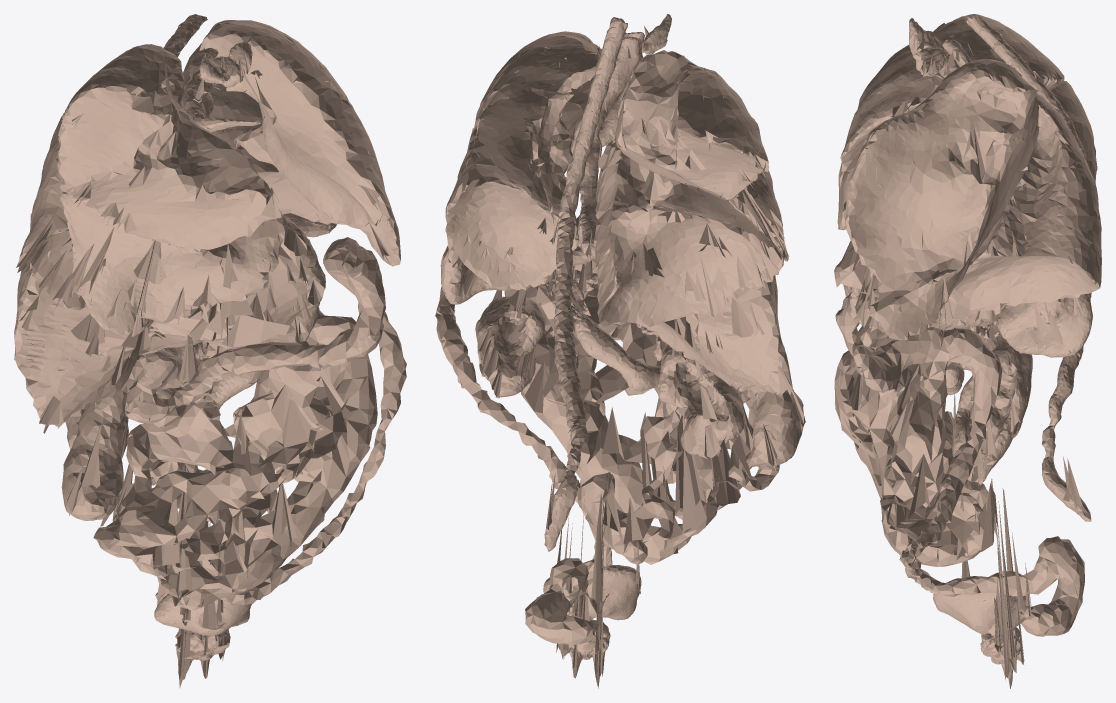
File: orgaos.glb
3 views of the same model, side by side, from view 1: azimuth 30°, elevation 25°; view 2: azimuth 150°, elevation 25°; view 3: azimuth 270°, elevation 25° (orthographic). The views are drawn at different scales.
Parts seen in each view (by area): view 1: small_bowel, lung_upper_lobe_right, colon, lung_upper_lobe_left, liver, lung_middle_lobe_right, lung_lower_lobe_right, lung_lower_lobe_left, stomach, urinary_bladder, prostate, trachea (+5 smaller); view 2: small_bowel, lung_lower_lobe_right, lung_lower_lobe_left, lung_upper_lobe_right, colon, liver, spinal_cord, kidney_right, lung_upper_lobe_left, kidney_left, urinary_bladder, esophagus (+8 smaller); view 3: lung_upper_lobe_left, small_bowel, lung_lower_lobe_left, colon, lung_upper_lobe_right, kidney_left, spinal_cord, spleen, urinary_bladder, prostate, stomach, lung_lower_lobe_right (+5 smaller).
Boxes of the visible parts, x1,y1,x2,y2 form: small_bowel: (93,315,377,609); lung_upper_lobe_right: (57,44,282,251); colon: (61,237,406,605); lung_upper_lobe_left: (199,20,400,266); liver: (14,223,309,433); lung_middle_lobe_right: (59,175,287,334); lung_lower_lobe_right: (16,107,176,336); lung_lower_lobe_left: (180,43,381,224); stomach: (202,218,325,357); urinary_bladder: (154,590,251,635); prostate: (175,523,230,688); trachea: (162,53,260,132); small_bowel: (504,284,779,564); lung_lower_lobe_right: (593,137,783,327); lung_lower_lobe_left: (445,88,581,290); lung_upper_lobe_right: (614,50,769,199); colon: (435,260,805,645); liver: (578,223,795,397); spinal_cord: (544,21,627,551); kidney_right: (657,319,744,459); lung_upper_lobe_left: (475,31,621,188); kidney_left: (475,289,545,398); urinary_bladder: (543,494,641,620); esophagus: (570,36,640,261); lung_upper_lobe_left: (845,59,1039,340); small_bowel: (834,326,999,566); lung_lower_lobe_left: (939,93,1101,326); colon: (835,284,1084,636); lung_upper_lobe_right: (840,14,1064,176); kidney_left: (952,342,1032,485); spinal_cord: (966,16,1091,521); spleen: (997,256,1092,357); urinary_bladder: (933,488,1031,637); prostate: (980,501,1024,688); stomach: (854,230,1021,330); lung_lower_lobe_right: (1049,81,1097,182).
Size of the model in its own units: 0.3555 by 0.6361 by 0.2335.
